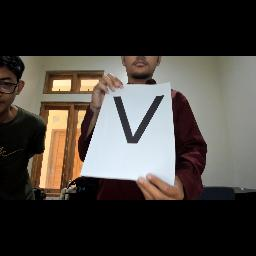v: (110, 92, 172, 152)
